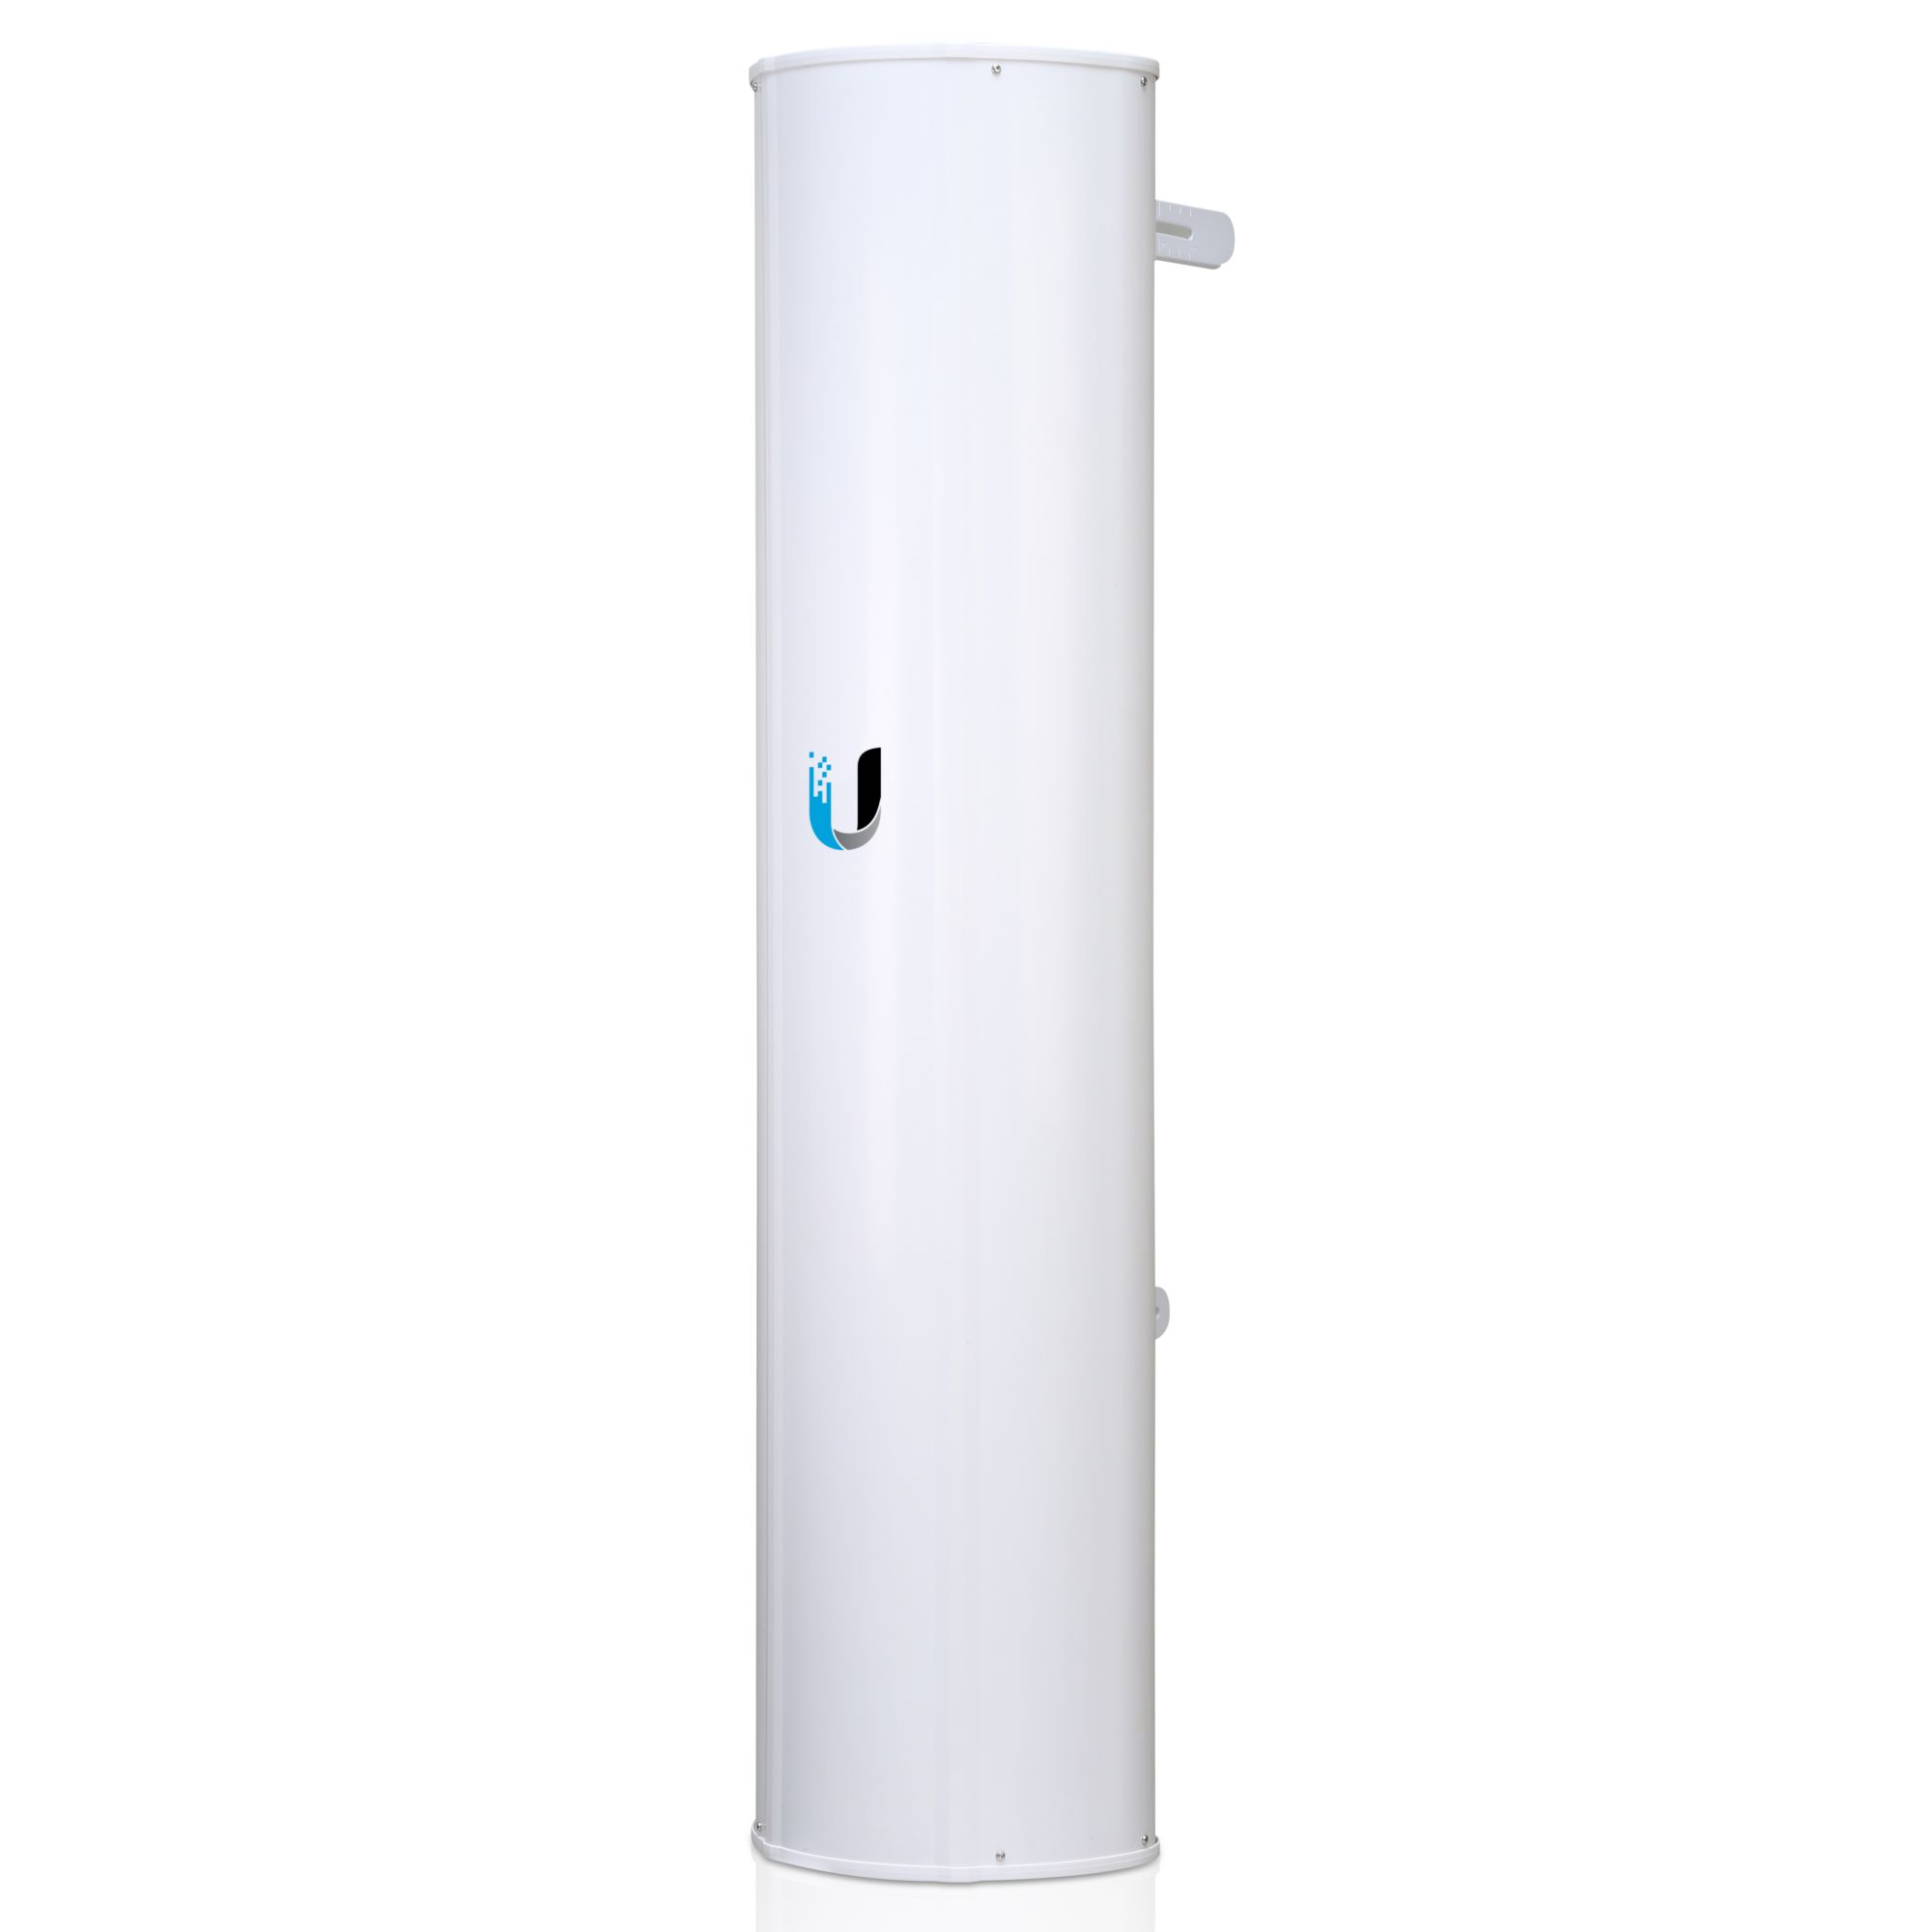sa: (708, 65, 1214, 1932)
